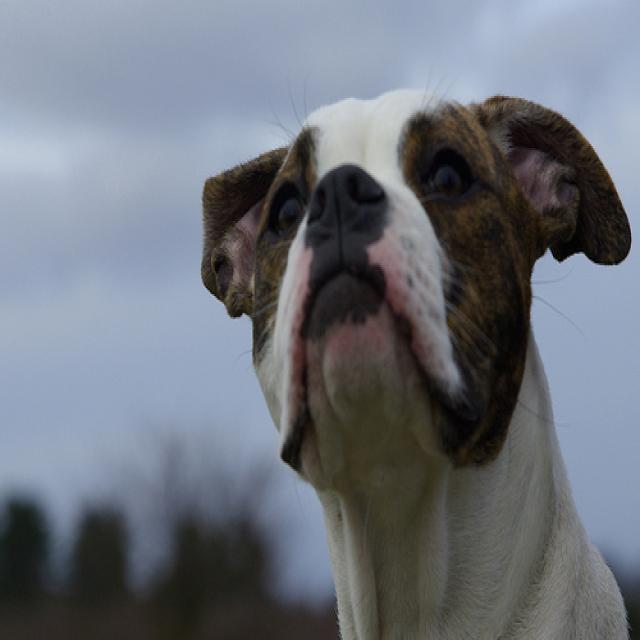dog-american_bulldog: (193, 81, 637, 636)
